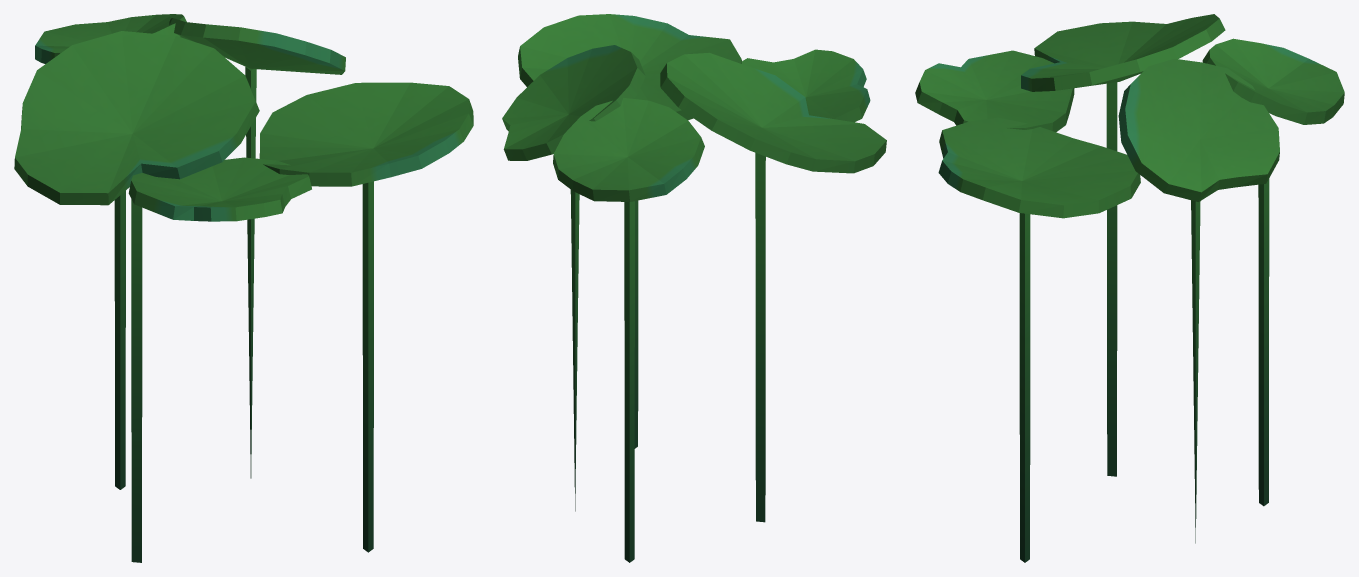
File: ZLP_Grass_E_7.FBX
The picture shows the model from 3 angles, left to right: view 1: azimuth 30°, elevation 25°; view 2: azimuth 150°, elevation 25°; view 3: azimuth 270°, elevation 25°; orthographic projection. The views are drawn at different scales.
Parts seen in each view (by area): view 1: ZLP_Grass_E_7; view 2: ZLP_Grass_E_7; view 3: ZLP_Grass_E_7.
Boxes of the visible parts, x1,y1,x2,y2 form: ZLP_Grass_E_7: (14,14,473,562); ZLP_Grass_E_7: (502,14,886,562); ZLP_Grass_E_7: (915,14,1344,562).
Bounding box in the file's own units: 120 × 139 × 116.
